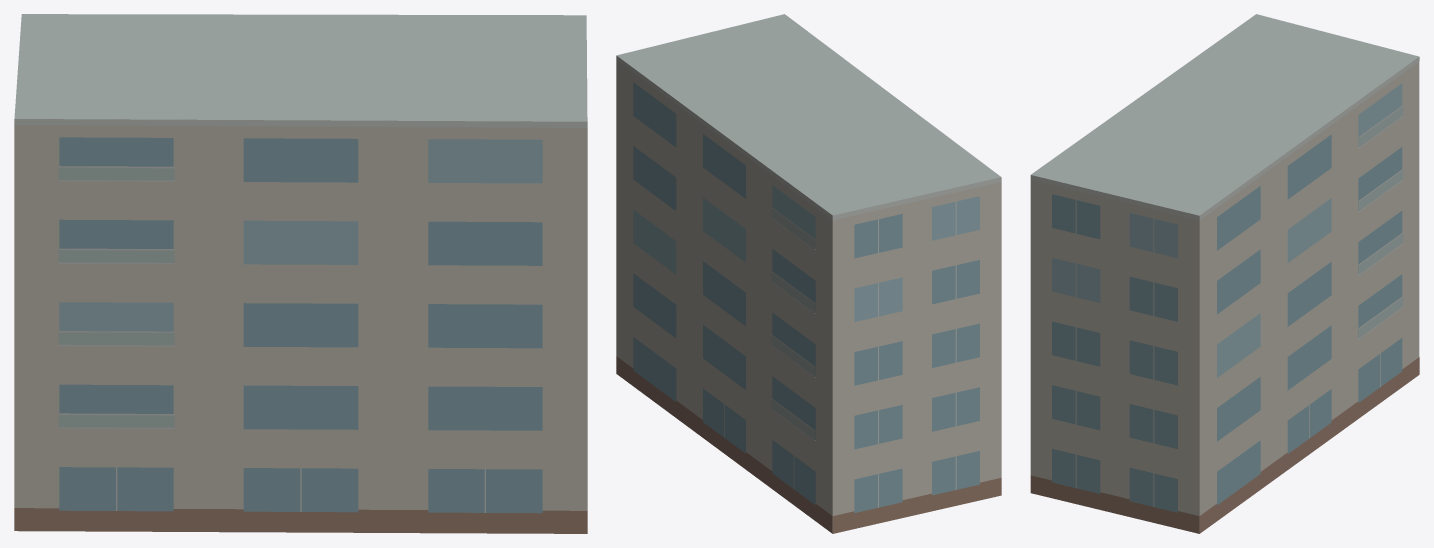
Rendered from survey-upis-32768671.glb.
The picture shows the model from 3 angles, left to right: view 1: azimuth 30°, elevation 25°; view 2: azimuth 150°, elevation 25°; view 3: azimuth 270°, elevation 25°; orthographic projection. The views are drawn at different scales.
Visible parts, largest first — view 1: survey-upis-32768671.tmp; view 2: survey-upis-32768671.tmp; view 3: survey-upis-32768671.tmp.
Part boxes in pixels (<box>): survey-upis-32768671.tmp: <box>14,14,587,533</box>; survey-upis-32768671.tmp: <box>616,14,1001,533</box>; survey-upis-32768671.tmp: <box>1030,14,1419,533</box>.
Size of the model in its own units: 21.83 by 16.05 by 17.78.
